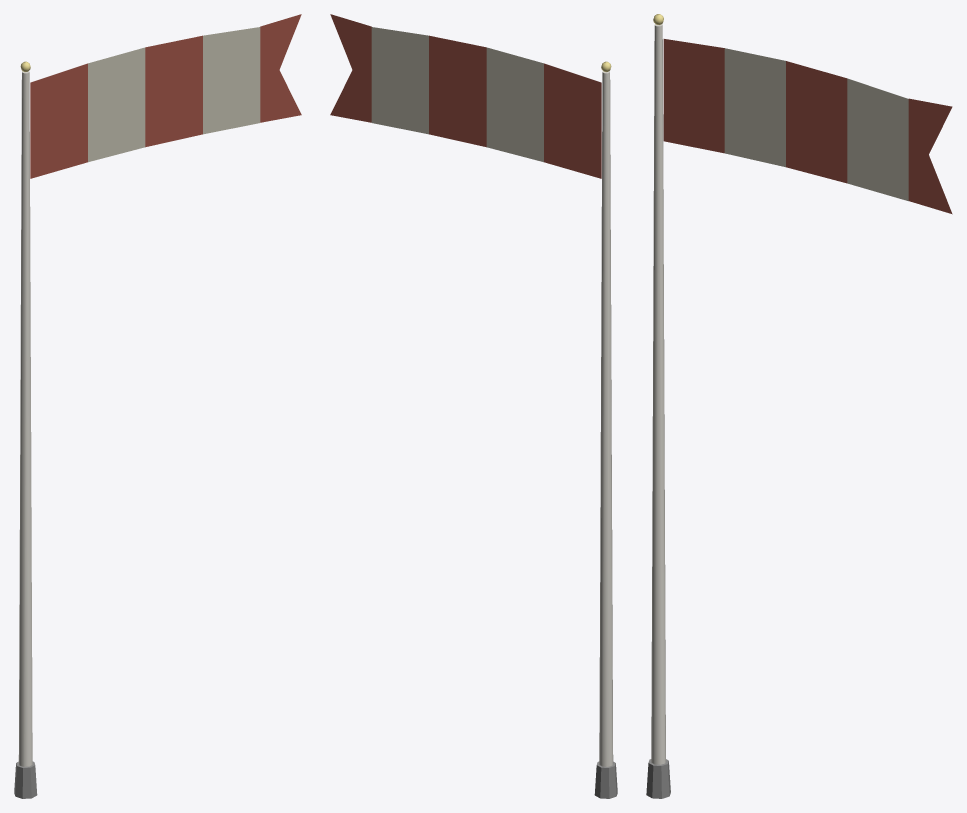
The model's file is festival_flag_a_b.glb.
3 renders of one model, left to right at view 1: azimuth 30°, elevation 25°; view 2: azimuth 150°, elevation 25°; view 3: azimuth 330°, elevation 25°, orthographic. The views are drawn at different scales.
Parts seen in each view (by area): view 1: body; view 2: body; view 3: body.
Part boxes in pixels (bbox=[...]): body: bbox=[14, 14, 301, 798]; body: bbox=[330, 14, 617, 798]; body: bbox=[646, 14, 952, 798].
Size of what is drawn, in the model's own units: 2.49 by 6.08 by 0.18.
